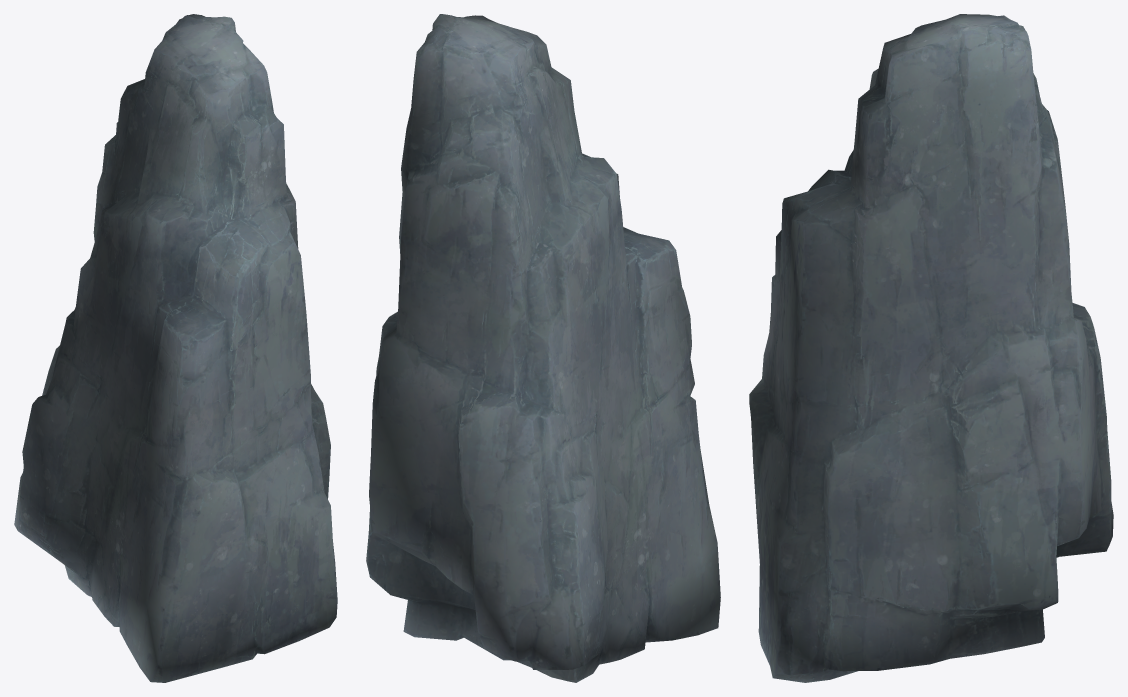
Rendered from Area_Cyjy_Stone_UP_Full_S_01.fbx.
3 renders of one model, left to right at view 1: azimuth 30°, elevation 25°; view 2: azimuth 150°, elevation 25°; view 3: azimuth 270°, elevation 25°, orthographic. The views are drawn at different scales.
Parts seen in each view (by area): view 1: Area_Cyjy_Stone_UP_Full_S_01_Lod0; view 2: Area_Cyjy_Stone_UP_Full_S_01_Lod0; view 3: Area_Cyjy_Stone_UP_Full_S_01_Lod0.
Part boxes in pixels (x1,y1,x2,y2): Area_Cyjy_Stone_UP_Full_S_01_Lod0: [14, 14, 337, 682]; Area_Cyjy_Stone_UP_Full_S_01_Lod0: [366, 14, 720, 682]; Area_Cyjy_Stone_UP_Full_S_01_Lod0: [749, 14, 1113, 682].
Size of the model in its own units: 12.24 by 31.15 by 15.67.
1 material, 1 textured.
